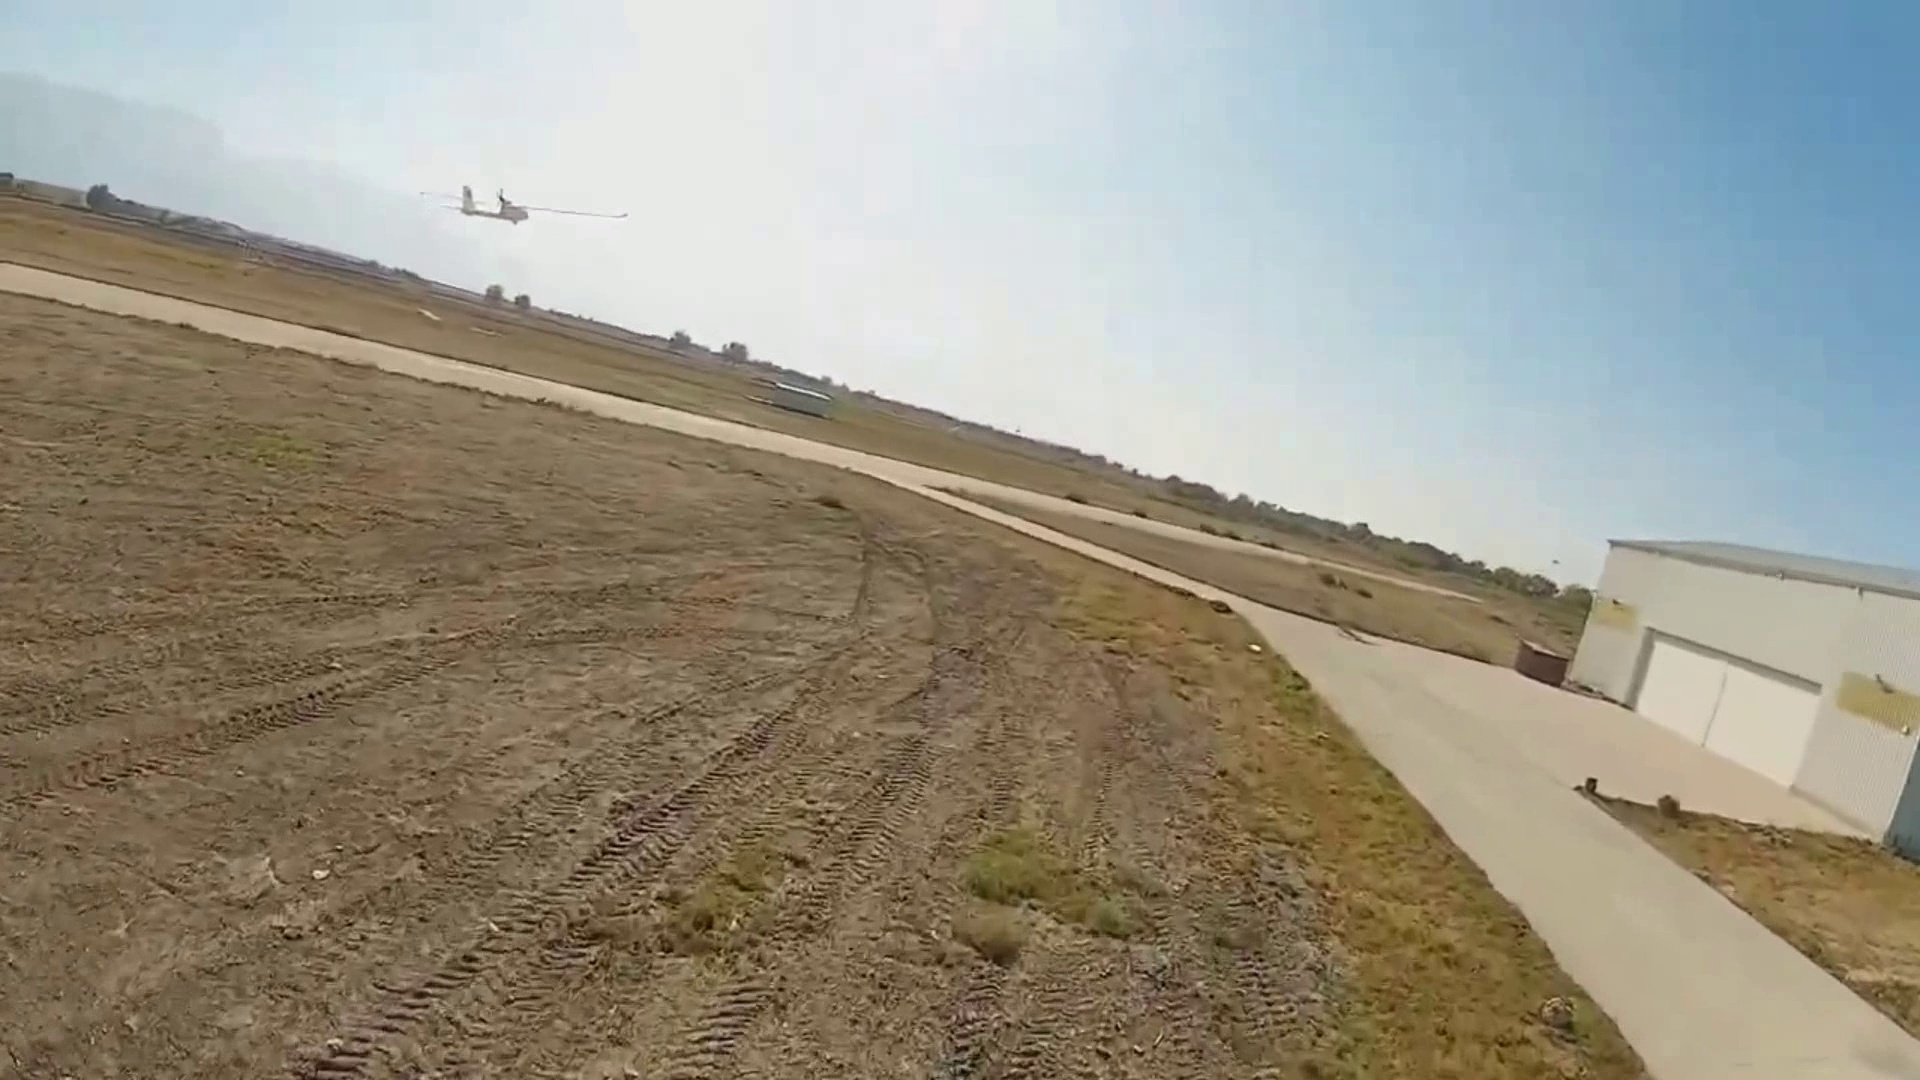airplane: (452, 171, 632, 225)
